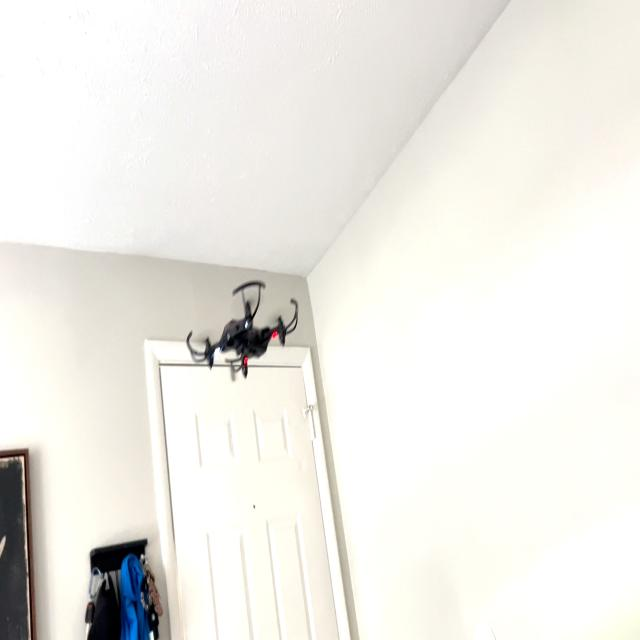drone: (175, 259, 310, 392)
